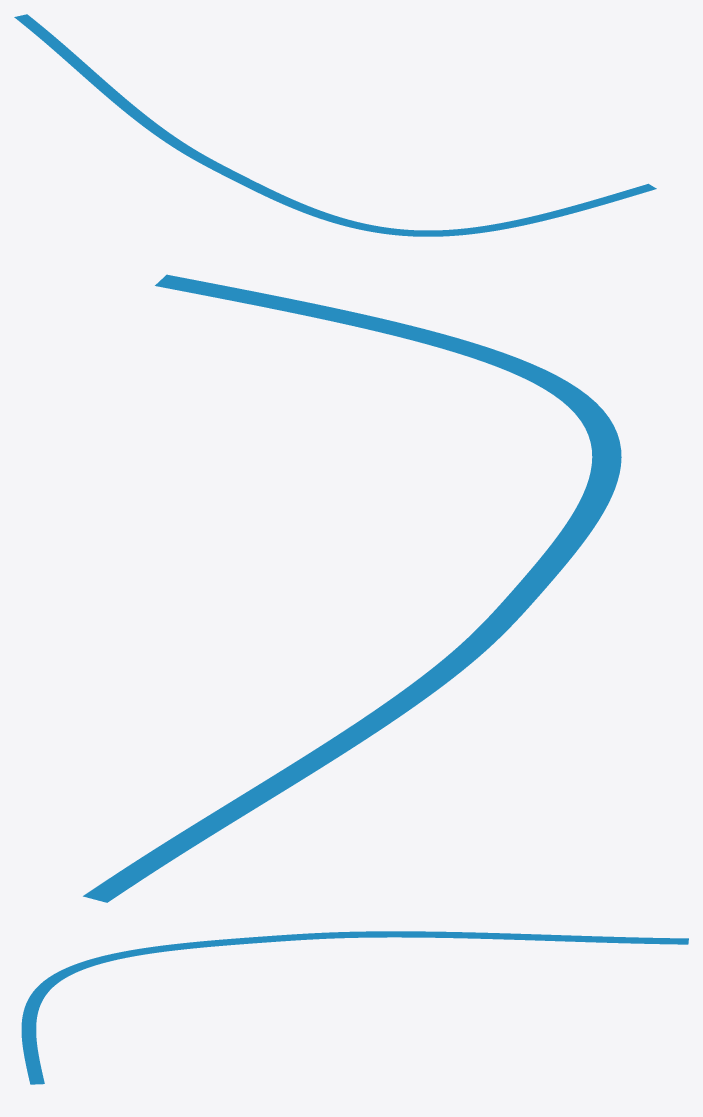
The model's file is guide.glb.
3 views of the same model, one above another, from view 1: azimuth 30°, elevation 25°; view 2: azimuth 150°, elevation 25°; view 3: azimuth 270°, elevation 25° (orthographic). The views are drawn at different scales.
Parts seen in each view (by area): view 1: static; view 2: static; view 3: static.
Boxes of the visible parts, <box> form: static: <box>14,14,656,236</box>; static: <box>83,274,621,902</box>; static: <box>21,931,688,1084</box>.
Bounding box in the file's own units: 8.86 × 0 × 14.74.
